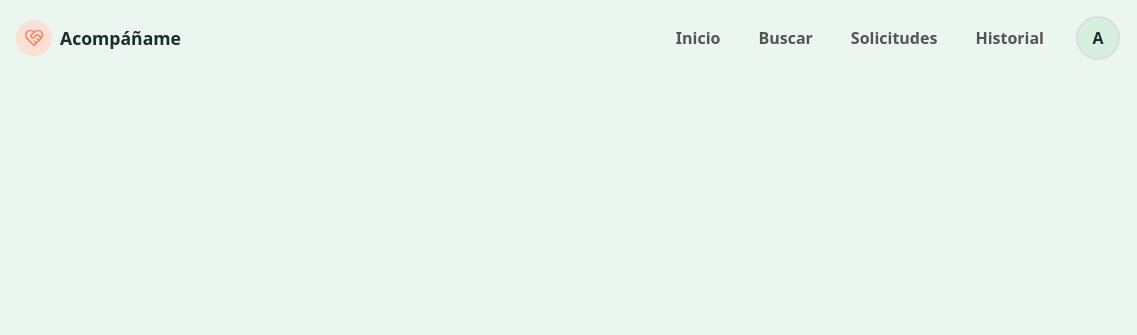
Test: NavBar › muestra el nombre en el menú en vez del correo
This screenshot has width=1137, height=335.
Click the button with class "navbar__avatar": (1098,38) [1076, 16, 1120, 60]
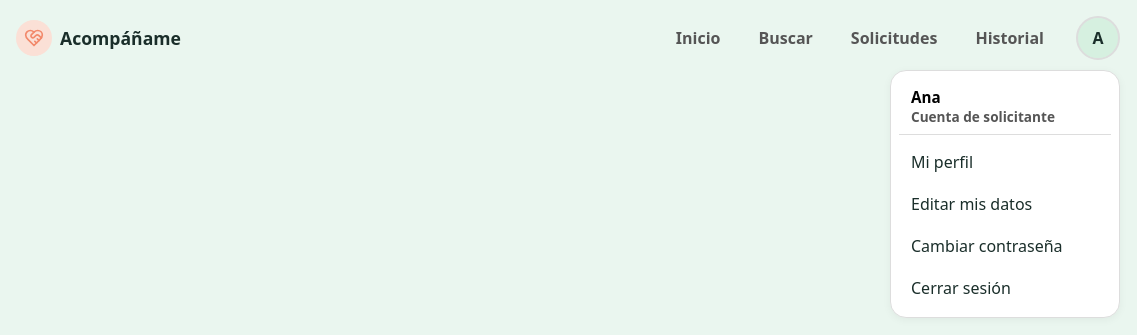
Expected: the element with class "navbar__menu-header" shows "Ana", [911, 87, 941, 107]
